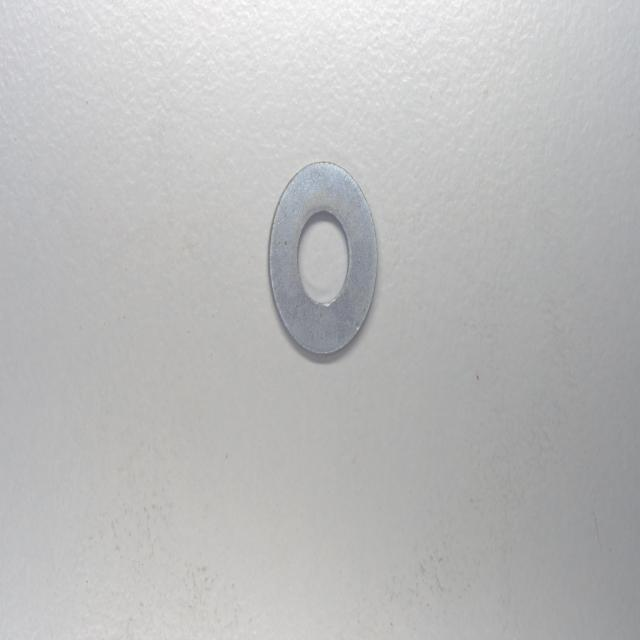washer: (268, 157, 380, 360)
